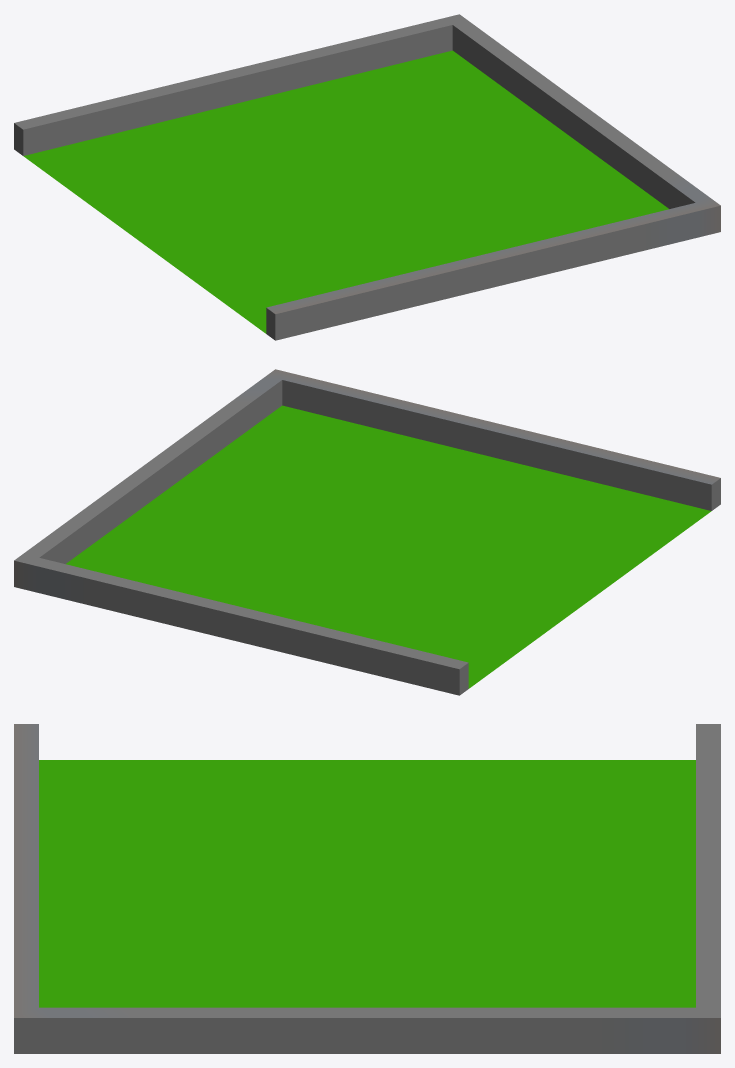
3 renders of one model, top to bottom at view 1: azimuth 30°, elevation 25°; view 2: azimuth 150°, elevation 25°; view 3: azimuth 270°, elevation 25°, orthographic. The views are drawn at different scales.
Visible parts, largest first — view 1: SM_R_Gr1; view 2: SM_R_Gr1; view 3: SM_R_Gr1.
Part boxes in pixels (<box>): SM_R_Gr1: <box>14,14,720,340</box>; SM_R_Gr1: <box>14,369,720,695</box>; SM_R_Gr1: <box>14,724,720,1053</box>.
Bounding box in the file's own units: 1181 × 66.93 × 1200.
